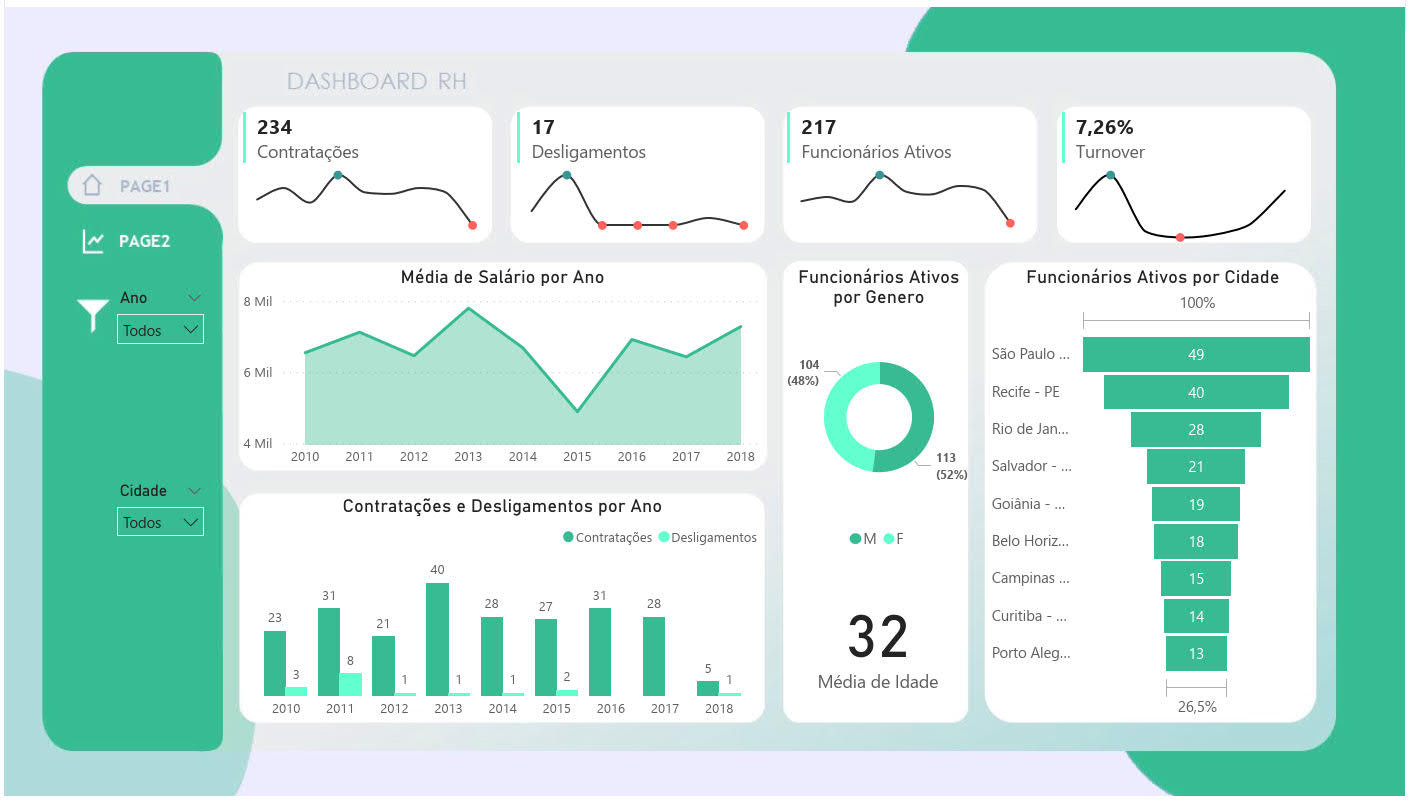

The page's visual inventory and layout, read from the dashboard file:
{"tool":"powerbi","page":{"name":"Página 1","canvas":[1280,720],"ordinal":0},"visuals":[{"type":"multiRowCard","fields":{"Values":["Medidas.Contratações"]},"box":[212.6,90.7,236.7,69.4],"z":0},{"type":"PBI_CV_25997FEB_F466_44FA_B562_AC4063283C4C","fields":{"measure":["Medidas.Contratações"],"axis":["Funcionarios.Data de Contratacao.Variation.Hierarquia de datas.Ano"]},"box":[212.6,136.1,236.7,73.7],"z":1000},{"type":"multiRowCard","fields":{"Values":["Medidas.Func_Ativos"]},"box":[710.1,90.7,231,70.9],"z":2000},{"type":"multiRowCard","fields":{"Values":["Medidas.Demissões"]},"box":[463.5,90.7,233.9,68],"z":3000},{"type":"multiRowCard","fields":{"Values":["Medidas.% Turnover"]},"box":[960.9,90.7,231,68],"z":4000},{"type":"funnel","fields":{"Y":["Medidas.Func_Ativos"],"Category":["Funcionarios.Cidade"]},"box":[897.2,235.3,304.7,418.1],"z":5000},{"type":"donutChart","fields":{"Category":["Funcionarios.Genero"],"Y":["Medidas.Func_Ativos"]},"box":[709.9,235.6,177.9,269.1],"z":6000},{"type":"areaChart","title":"Média de Salário por Ano","fields":{"Category":["Funcionarios.Data de Contratacao.Variation.Hierarquia de datas.Ano"],"Y":["Avg(Funcionarios.Salario)"]},"box":[212.8,235.6,484.9,193.1],"z":7000},{"type":"card","fields":{"Values":["Avg(Funcionarios.Idade)"]},"box":[720,503.1,155.9,148.8],"z":8000},{"type":"clusteredColumnChart","fields":{"Y":["Medidas.Contratações","Medidas.Demissões"],"Category":["Funcionarios.Data de Contratacao.Variation.Hierarquia de datas.Ano","Funcionarios.Data de Contratacao.Variation.Hierarquia de datas.Trimestre","Funcionarios.Data de Contratacao.Variation.Hierarquia de datas.Mês","Funcionarios.Data de Contratacao.Variation.Hierarquia de datas.Dia"]},"box":[212.6,445,484.7,214],"z":9000},{"type":"PBI_CV_25997FEB_F466_44FA_B562_AC4063283C4C","fields":{"measure":["Medidas.Desligamentos"],"axis":["Funcionarios.Data de Contratacao.Variation.Hierarquia de datas.Ano"]},"box":[463.5,136.1,233.9,73.7],"z":10000},{"type":"PBI_CV_25997FEB_F466_44FA_B562_AC4063283C4C","fields":{"measure":["Medidas.Funcionários Ativos"],"axis":["Funcionarios.Data de Contratacao.Variation.Hierarquia de datas.Ano"]},"box":[710.1,136.1,231,72.3],"z":11000},{"type":"PBI_CV_25997FEB_F466_44FA_B562_AC4063283C4C","fields":{"measure":["Medidas.% Turnover"],"axis":["Funcionarios.Data de Contratacao.Variation.Hierarquia de datas.Ano"]},"box":[960.9,136.1,231,85],"z":12000},{"type":"slicer","fields":{"Values":["Funcionarios.Data de Contratacao.Variation.Hierarquia de datas.Ano"]},"box":[92.7,252.4,100.3,176.3],"z":13000},{"type":"slicer","fields":{"Values":["Funcionarios.Cidade"]},"box":[92.7,428.7,100.3,225],"z":14000},{"type":"shape","box":[53.9,138.9,138.9,45.4],"z":14001},{"type":"shape","box":[53.9,189.9,138.9,45.4],"z":14002}]}

Visuals, with their boxes on the page's 1280x720 design canvas (x1, y1, x2, y2). These are canvas units, not pixel positions in the 1410x803 screenshot, which may show the page scaled, cropped or inside an application window:
multiRowCard - Medidas.Contratações: [x1=213, y1=91, x2=449, y2=160]
PBI_CV_25997FEB_F466_44FA_B562_AC4063283C4C - Medidas.Contratações x Funcionarios.Data de Contratacao.Variation.Hierarquia de datas.Ano: [x1=213, y1=136, x2=449, y2=210]
multiRowCard - Medidas.Func_Ativos: [x1=710, y1=91, x2=941, y2=162]
multiRowCard - Medidas.Demissões: [x1=464, y1=91, x2=697, y2=159]
multiRowCard - Medidas.% Turnover: [x1=961, y1=91, x2=1192, y2=159]
funnel - Medidas.Func_Ativos x Funcionarios.Cidade: [x1=897, y1=235, x2=1202, y2=653]
donutChart - Funcionarios.Genero x Medidas.Func_Ativos: [x1=710, y1=236, x2=888, y2=505]
"Média de Salário por Ano" areaChart: [x1=213, y1=236, x2=698, y2=429]
card - Avg(Funcionarios.Idade): [x1=720, y1=503, x2=876, y2=652]
clusteredColumnChart - Medidas.Contratações x Medidas.Demissões: [x1=213, y1=445, x2=697, y2=659]
PBI_CV_25997FEB_F466_44FA_B562_AC4063283C4C - Medidas.Desligamentos x Funcionarios.Data de Contratacao.Variation.Hierarquia de datas.Ano: [x1=464, y1=136, x2=697, y2=210]
PBI_CV_25997FEB_F466_44FA_B562_AC4063283C4C - Medidas.Funcionários Ativos x Funcionarios.Data de Contratacao.Variation.Hierarquia de datas.Ano: [x1=710, y1=136, x2=941, y2=208]
PBI_CV_25997FEB_F466_44FA_B562_AC4063283C4C - Medidas.% Turnover x Funcionarios.Data de Contratacao.Variation.Hierarquia de datas.Ano: [x1=961, y1=136, x2=1192, y2=221]
slicer - Funcionarios.Data de Contratacao.Variation.Hierarquia de datas.Ano: [x1=93, y1=252, x2=193, y2=429]
slicer - Funcionarios.Cidade: [x1=93, y1=429, x2=193, y2=654]
shape: [x1=54, y1=139, x2=193, y2=184]
shape: [x1=54, y1=190, x2=193, y2=235]
